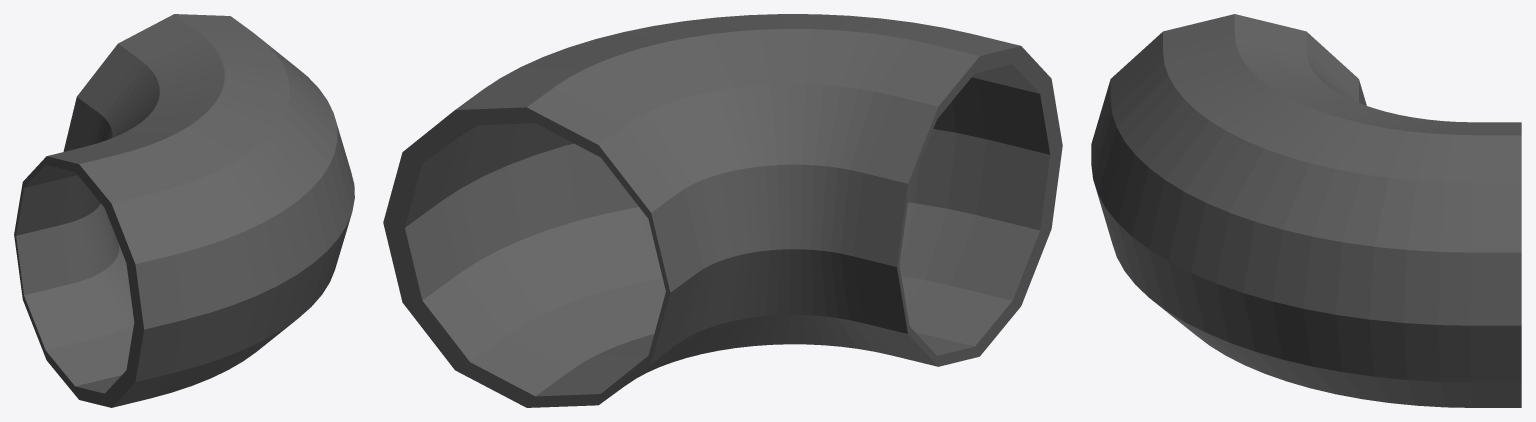
Rendered from Pipe_Curved.fbx.
3 renders of one model, left to right at view 1: azimuth 30°, elevation 25°; view 2: azimuth 150°, elevation 25°; view 3: azimuth 270°, elevation 25°, orthographic. The views are drawn at different scales.
Parts seen in each view (by area): view 1: Cone.003; view 2: Cone.003; view 3: Cone.003.
Boxes of the visible parts, x1=… form: Cone.003: x1=14, y1=14, x2=354, y2=407; Cone.003: x1=383, y1=14, x2=1062, y2=407; Cone.003: x1=1091, y1=14, x2=1521, y2=407.
Size of the model in its own units: 165 by 110 by 165.
